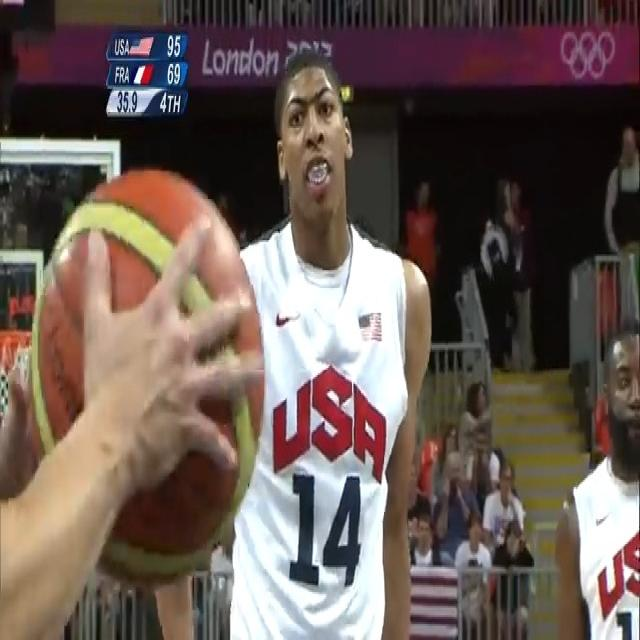basketball: (32, 167, 265, 584)
